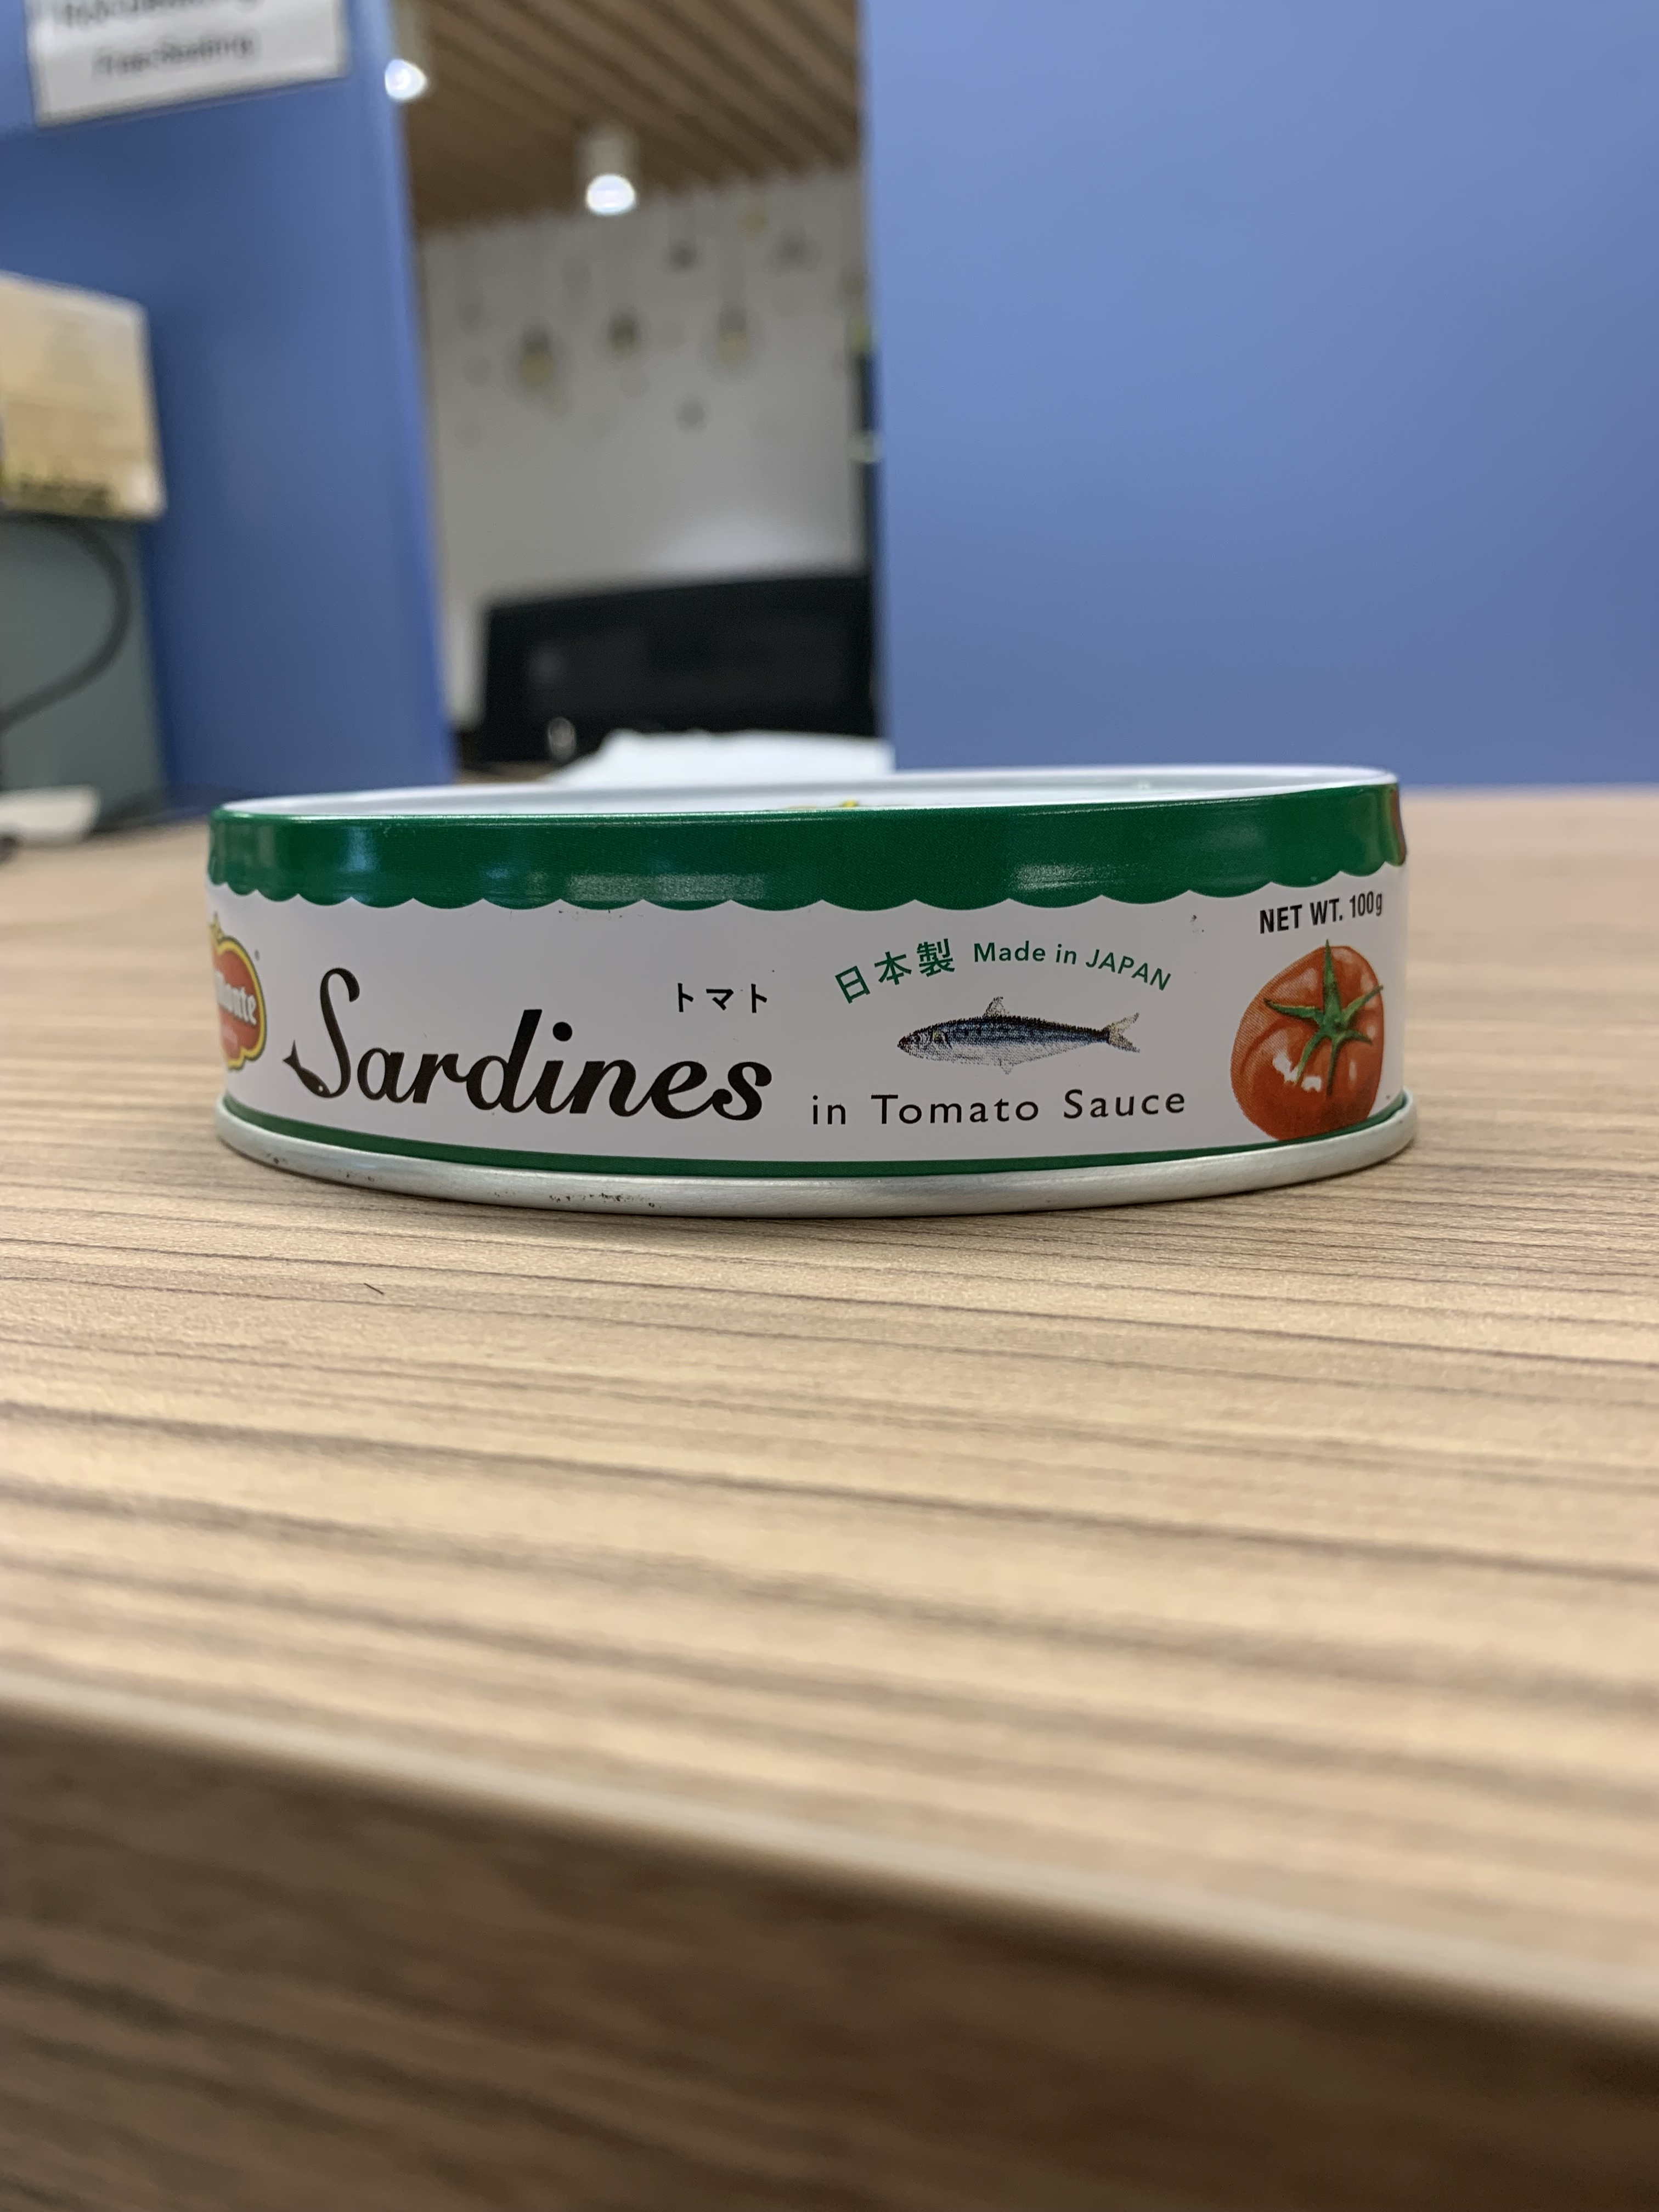sardines_100g-199g: (218, 834, 1427, 1174)
